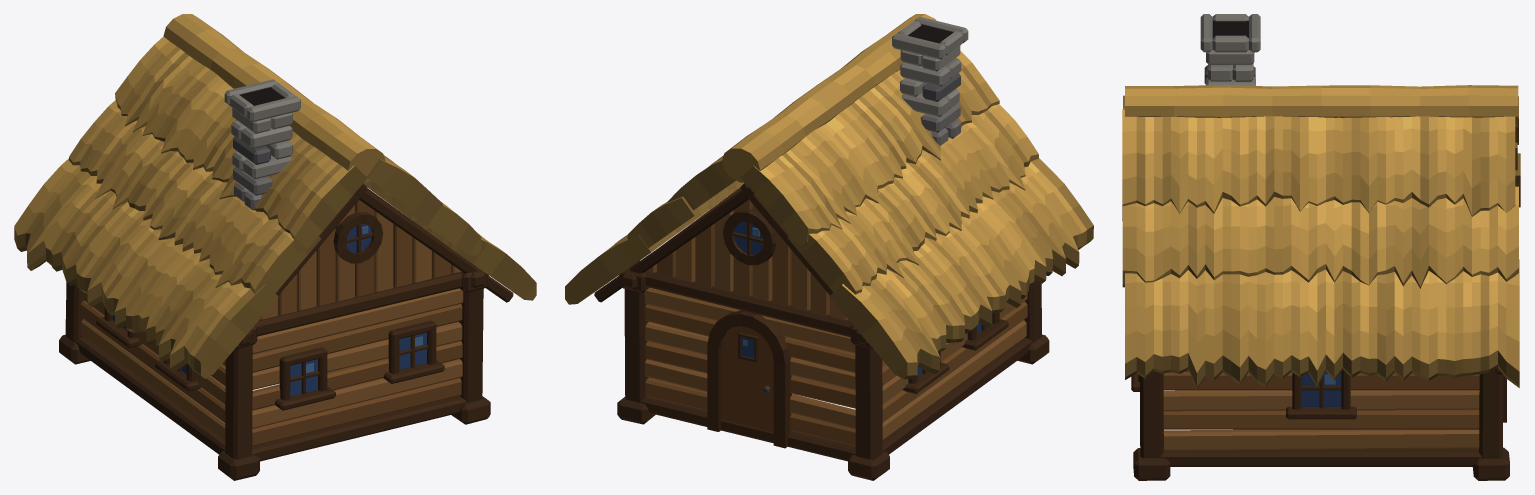
Rendered from house-c.glb.
The picture shows the model from 3 angles, left to right: view 1: azimuth 30°, elevation 25°; view 2: azimuth 150°, elevation 25°; view 3: azimuth 270°, elevation 25°; orthographic projection. The views are drawn at different scales.
Parts seen in each view (by area): view 1: TownToonHouseC; view 2: TownToonHouseC; view 3: TownToonHouseC.
Part boxes in pixels (x1,y1,x2,y2): TownToonHouseC: (14, 14, 536, 480); TownToonHouseC: (565, 14, 1093, 480); TownToonHouseC: (1122, 14, 1520, 480).
Size of the model in its own units: 5.53 by 5.04 by 5.05.
